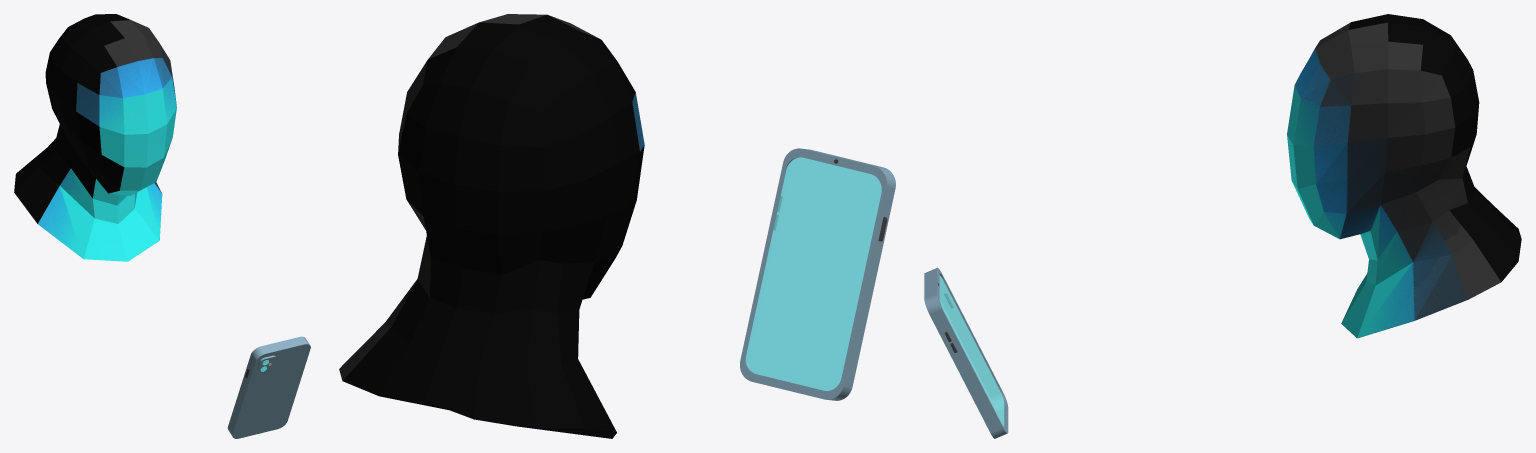
The picture shows the model from 3 angles, left to right: view 1: azimuth 30°, elevation 25°; view 2: azimuth 150°, elevation 25°; view 3: azimuth 270°, elevation 25°; orthographic projection. The views are drawn at different scales.
Visible parts, largest first — view 1: Head, Phone_Case; view 2: Head, Phone_Case, Phone_Camera; view 3: Head, Phone_Case.
Part boxes in pixels (box(x1,y1,x2,y2)): Head: box(14, 14, 176, 261); Phone_Case: box(227, 336, 310, 438); Head: box(339, 14, 644, 438); Phone_Case: box(740, 148, 895, 400); Phone_Camera: box(852, 174, 881, 216); Head: box(1287, 14, 1521, 338); Phone_Case: box(924, 267, 1008, 438).
Size of the model in its own units: 1.97 by 4.37 by 5.88.
5 materials, 1 textured.
